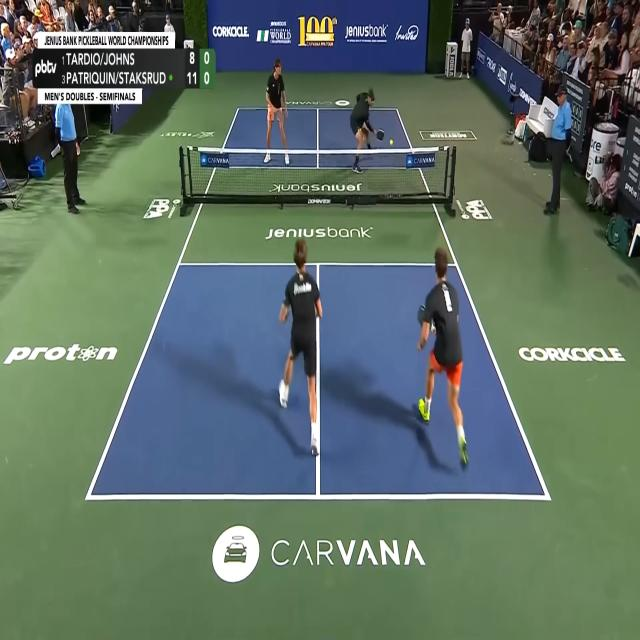ball: (389, 138, 393, 146)
